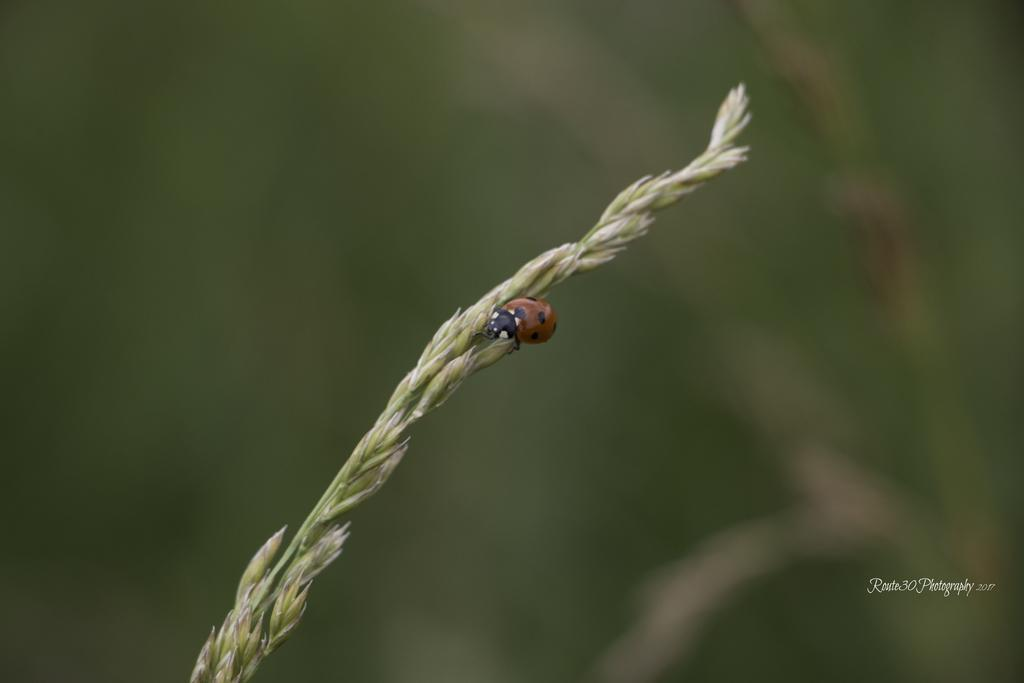ladybug: (471, 296, 562, 358)
